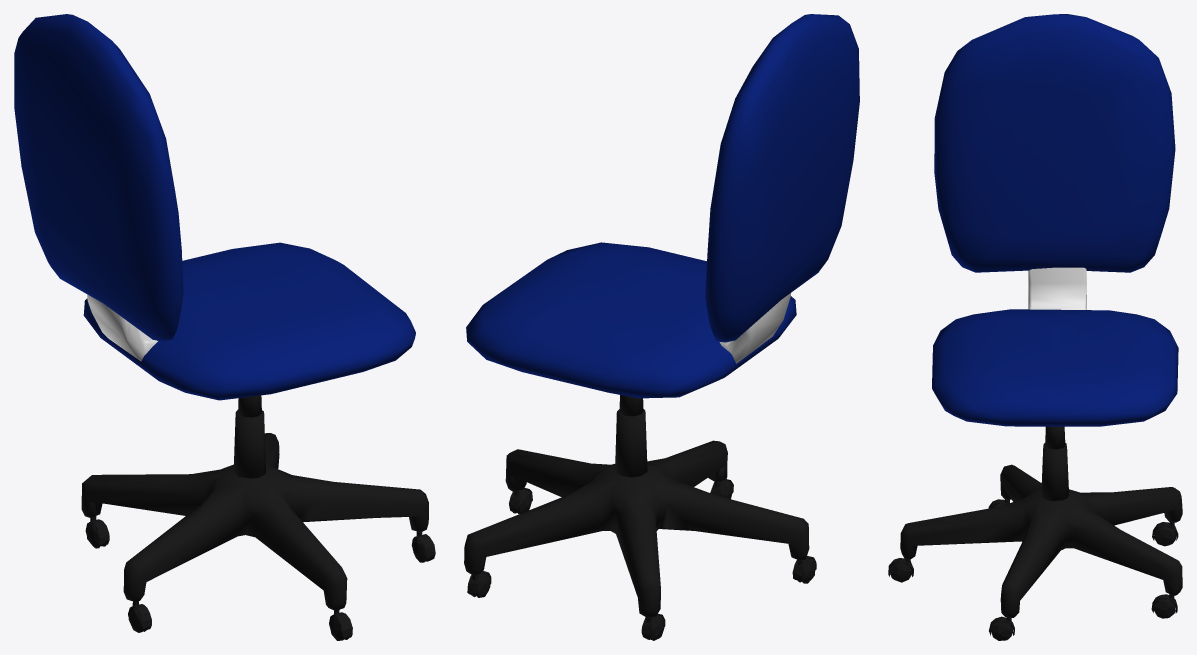
File: 椅子１(急速軽量版).fbx
The picture shows the model from 3 angles, left to right: view 1: azimuth 30°, elevation 25°; view 2: azimuth 150°, elevation 25°; view 3: azimuth 270°, elevation 25°; orthographic projection. The views are drawn at different scales.
Parts seen in each view (by area): view 1: 立方体.002; view 2: 立方体.002; view 3: 立方体.002.
Boxes of the visible parts, x1,y1,x2,y2 form: 立方体.002: (14, 14, 435, 640); 立方体.002: (464, 14, 859, 640); 立方体.002: (888, 14, 1182, 640).
Bounding box in the file's own units: 439 × 744 × 397.
